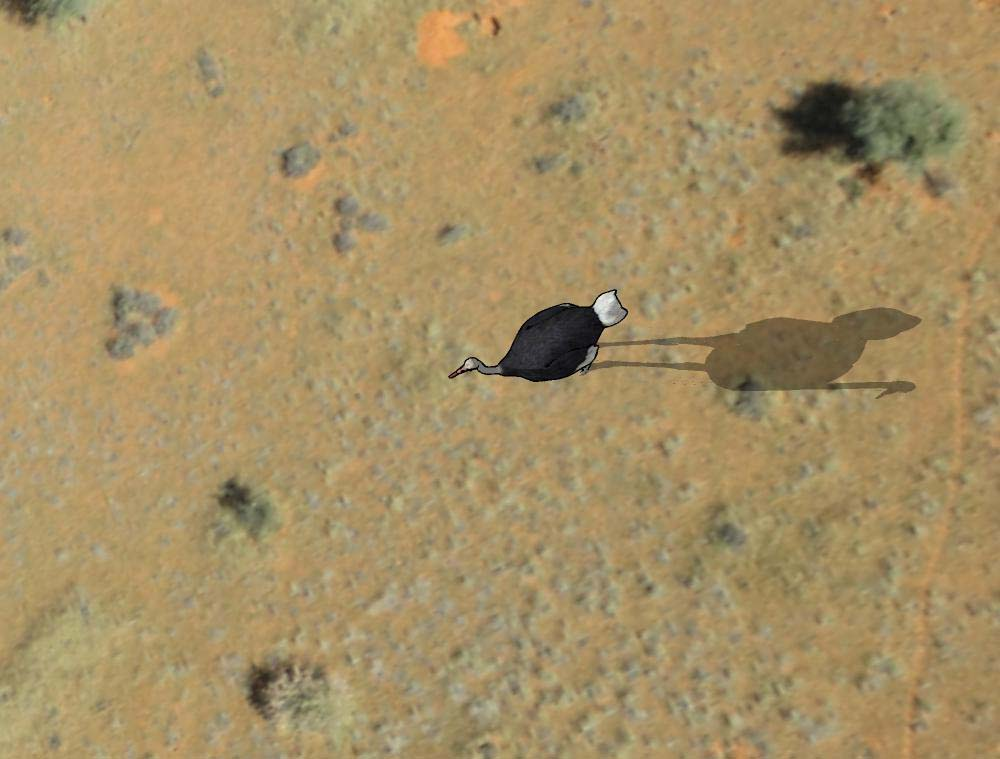springbok: (443, 286, 637, 389)
